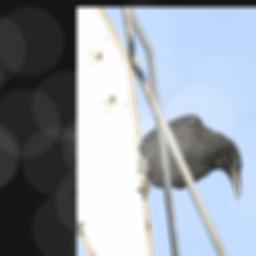Crow: (123, 86, 253, 250)
